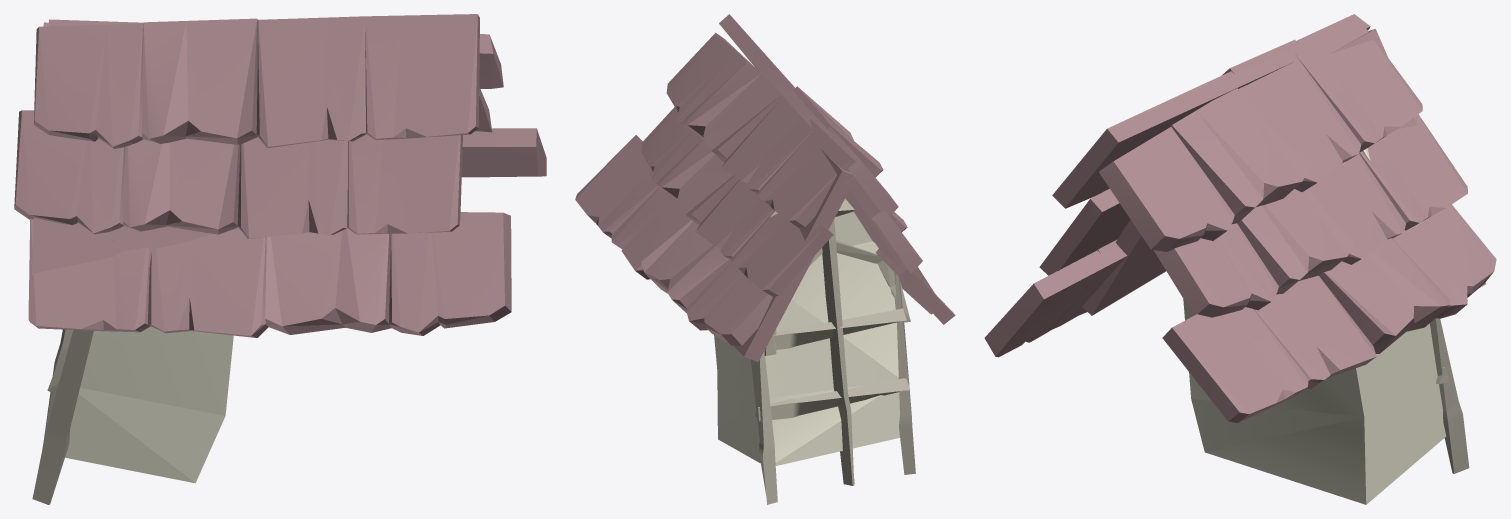
Rendered from windowsNoPlat.fbx.
3 views of the same model, side by side, from view 1: azimuth 30°, elevation 25°; view 2: azimuth 150°, elevation 25°; view 3: azimuth 270°, elevation 25° (orthographic). The views are drawn at different scales.
Visible parts, largest first — view 1: RedFrontWindowsTopNoPlatform; view 2: RedFrontWindowsTopNoPlatform; view 3: RedFrontWindowsTopNoPlatform.
Boxes of the visible parts, x1,y1,x2,y2 form: RedFrontWindowsTopNoPlatform: [14, 14, 546, 504]; RedFrontWindowsTopNoPlatform: [575, 14, 955, 504]; RedFrontWindowsTopNoPlatform: [984, 14, 1496, 504].
Size of the model in its own units: 351 by 307 by 314.
